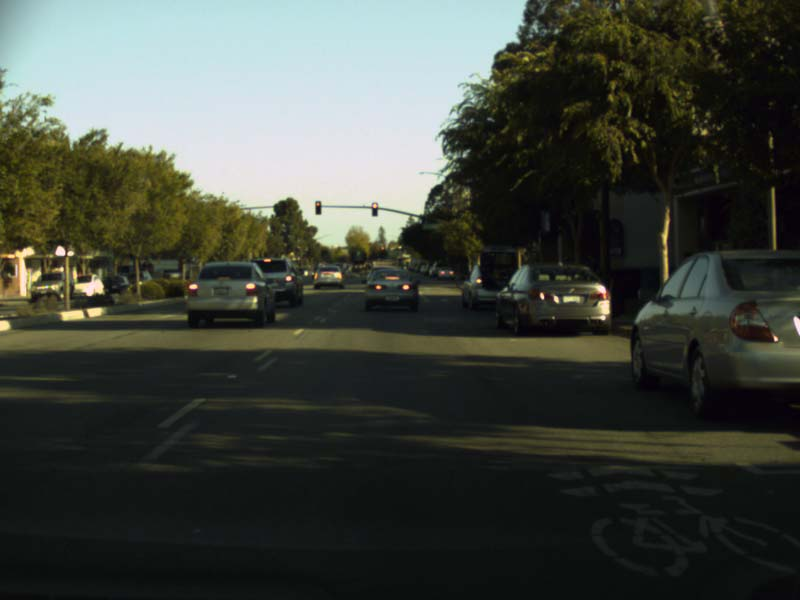Red: (314, 201, 321, 214), (371, 201, 377, 215)
